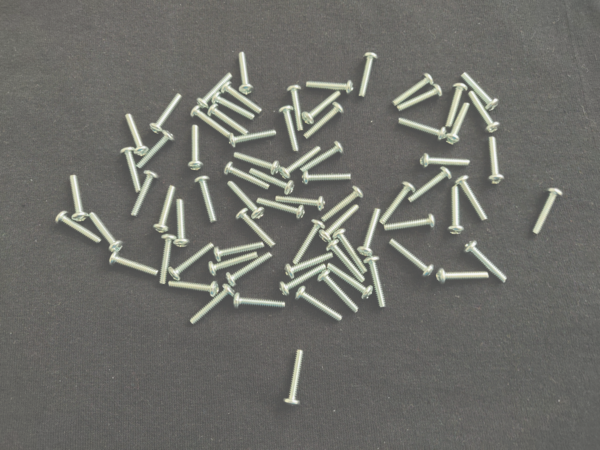longscrew: (463, 239, 509, 284), (387, 237, 436, 279), (167, 240, 216, 282), (188, 284, 237, 325), (317, 270, 360, 315), (326, 261, 374, 300), (454, 173, 491, 223), (294, 285, 344, 322), (226, 251, 276, 288), (235, 207, 278, 249), (326, 238, 366, 283), (333, 227, 369, 276), (407, 166, 454, 203), (55, 209, 103, 245), (318, 203, 361, 243), (379, 181, 416, 227), (531, 187, 565, 237), (278, 263, 328, 297), (460, 71, 500, 112), (226, 179, 266, 220), (136, 130, 177, 170), (302, 102, 345, 140), (88, 211, 125, 255), (320, 186, 365, 222), (299, 140, 346, 174), (292, 219, 326, 266), (391, 72, 435, 108), (190, 105, 234, 141), (130, 168, 161, 219), (197, 71, 235, 111), (283, 251, 335, 280), (108, 250, 160, 279), (279, 145, 322, 180), (149, 92, 184, 135), (467, 90, 501, 134), (302, 90, 343, 126), (221, 81, 264, 115), (207, 250, 259, 278), (223, 162, 271, 192), (283, 349, 306, 410), (396, 83, 444, 112), (356, 207, 383, 258), (207, 104, 250, 136), (249, 166, 296, 195), (396, 116, 448, 142), (193, 176, 220, 226), (211, 92, 257, 121), (152, 183, 178, 234), (364, 255, 388, 310), (156, 232, 179, 286), (232, 151, 281, 176), (444, 102, 471, 147), (124, 112, 151, 157), (256, 196, 306, 220), (232, 292, 288, 313), (213, 241, 266, 263), (119, 146, 143, 194), (445, 82, 470, 128), (68, 173, 90, 224), (435, 268, 491, 288), (357, 52, 380, 100), (278, 104, 300, 154), (228, 128, 278, 149), (173, 196, 192, 251), (285, 84, 306, 133), (384, 214, 437, 233), (167, 279, 220, 298), (447, 185, 466, 237), (274, 194, 327, 212), (487, 135, 506, 185), (187, 124, 206, 173), (419, 153, 472, 170), (237, 51, 256, 97), (305, 79, 355, 96), (301, 171, 354, 186)
